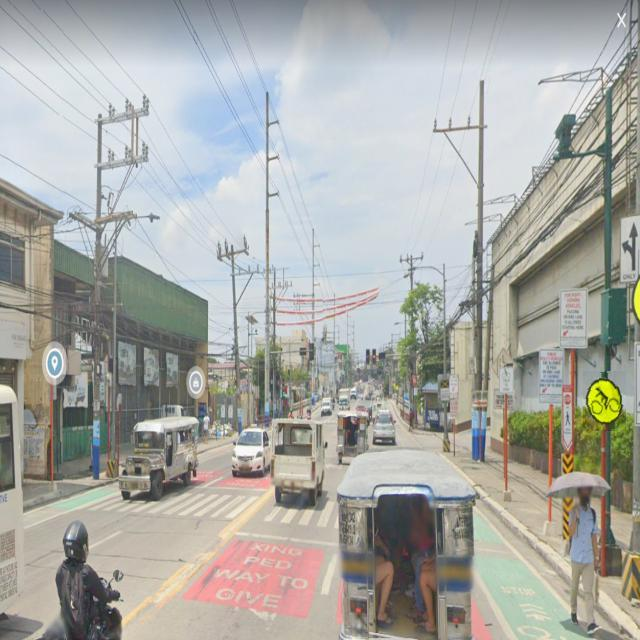bike lane: (583, 371, 626, 431)
